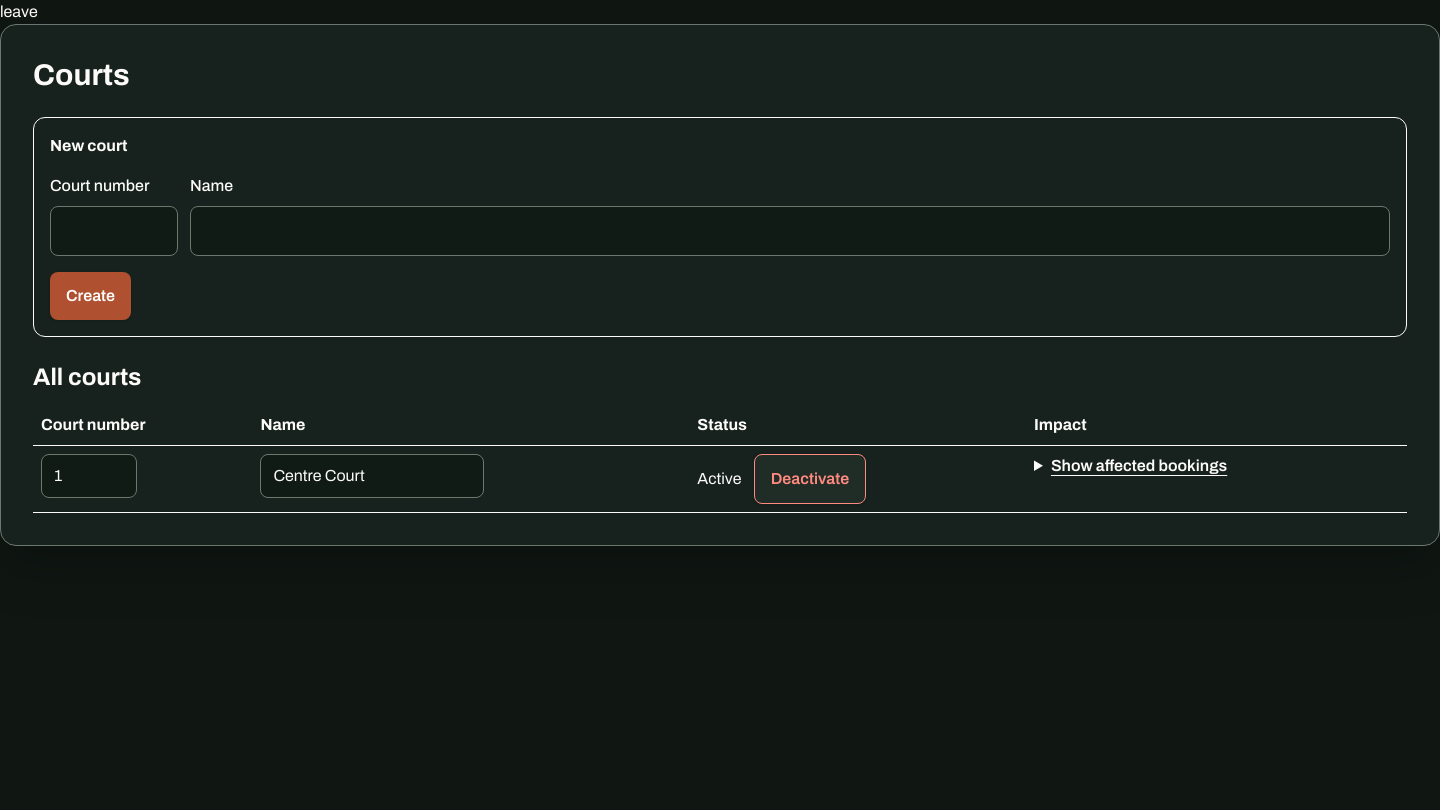
it: leaving an administrative page with unsaved work › given an edit on the courts page, when another page is opened, then the page asks first
The image size is (1440, 810).
Type "!" into the field with test id "edit-court-name-court-1".
click(372, 476); type("!")  # box [260, 454, 484, 498]
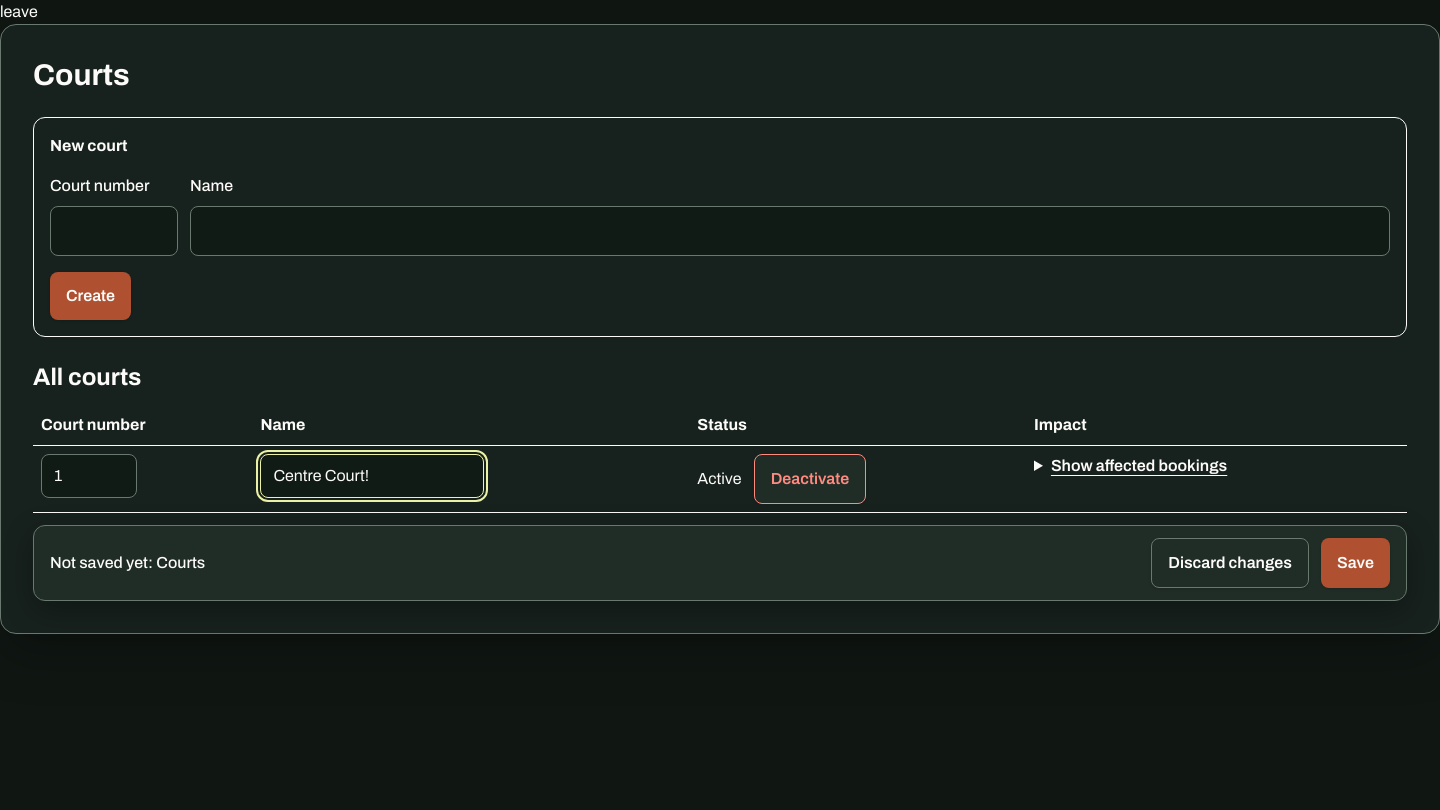
Now the element with test id "save-bar" is shown, box [33, 525, 1407, 601]
Click the link with test id "leave".
click(19, 12)  # box [0, 3, 38, 20]
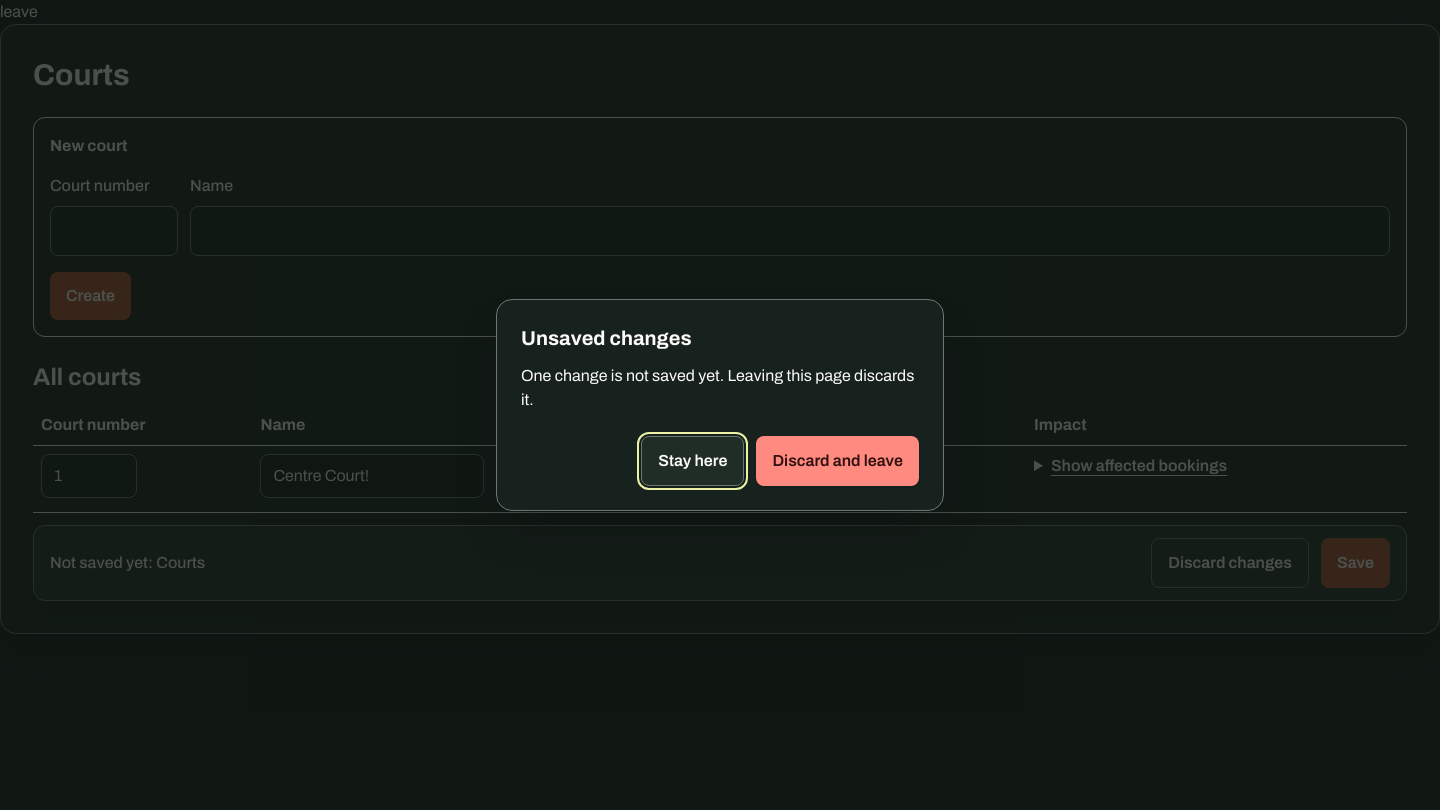
Now the dialog with test id "unsaved-changes" is shown, box [496, 299, 944, 511]
